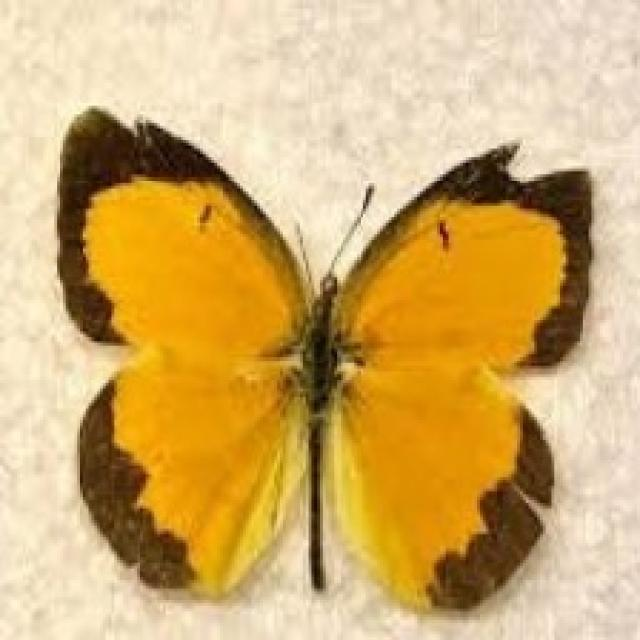butterfly: (51, 103, 594, 614)
